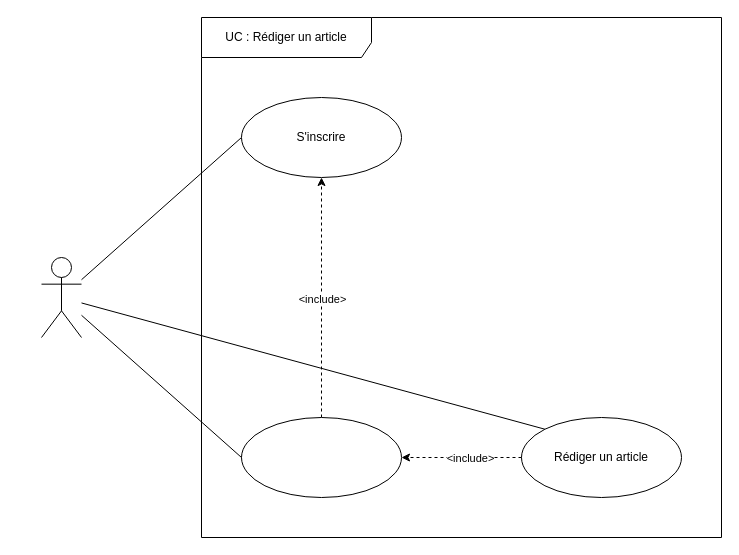
Some shapes in this 739 by 555 pixel diagram are drawn without their labels. The box of each missing label's shape, as (x1, y1, x2, y2) in pixels:
Se connecter: (240, 416, 402, 498)
Utilisateur inscrit: (40, 256, 82, 338)
